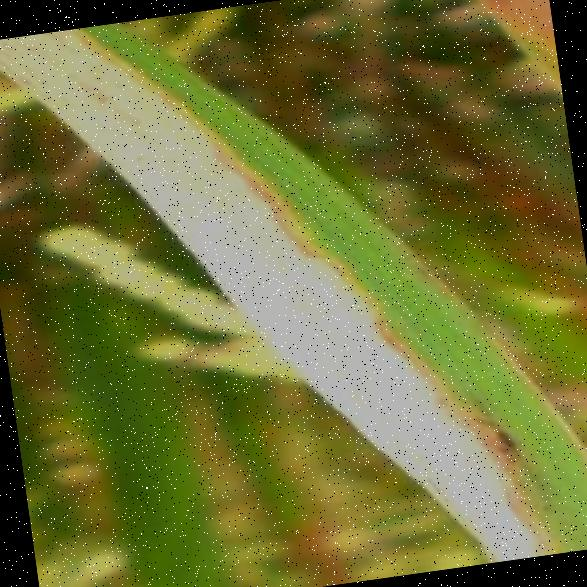Bacteria_Leaf_Blight: (286, 180, 587, 582)
